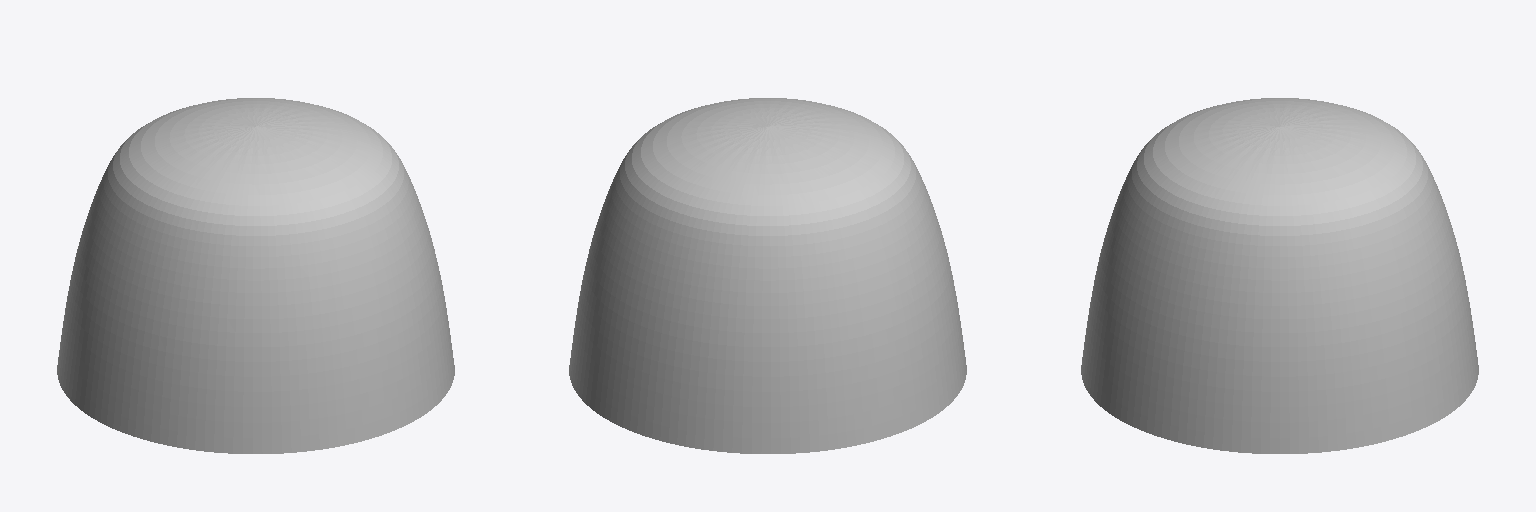
Rendered from vidro.obj.
3 renders of one model, left to right at view 1: azimuth 30°, elevation 25°; view 2: azimuth 150°, elevation 25°; view 3: azimuth 270°, elevation 25°, orthographic.
Visible parts, largest first — view 1: vidro; view 2: vidro; view 3: vidro.
Boxes of the visible parts, x1=… form: vidro: x1=57, y1=98, x2=454, y2=453; vidro: x1=569, y1=98, x2=966, y2=453; vidro: x1=1081, y1=98, x2=1478, y2=453.
Size of the model in its own units: 1.12 by 0.8025 by 1.12.